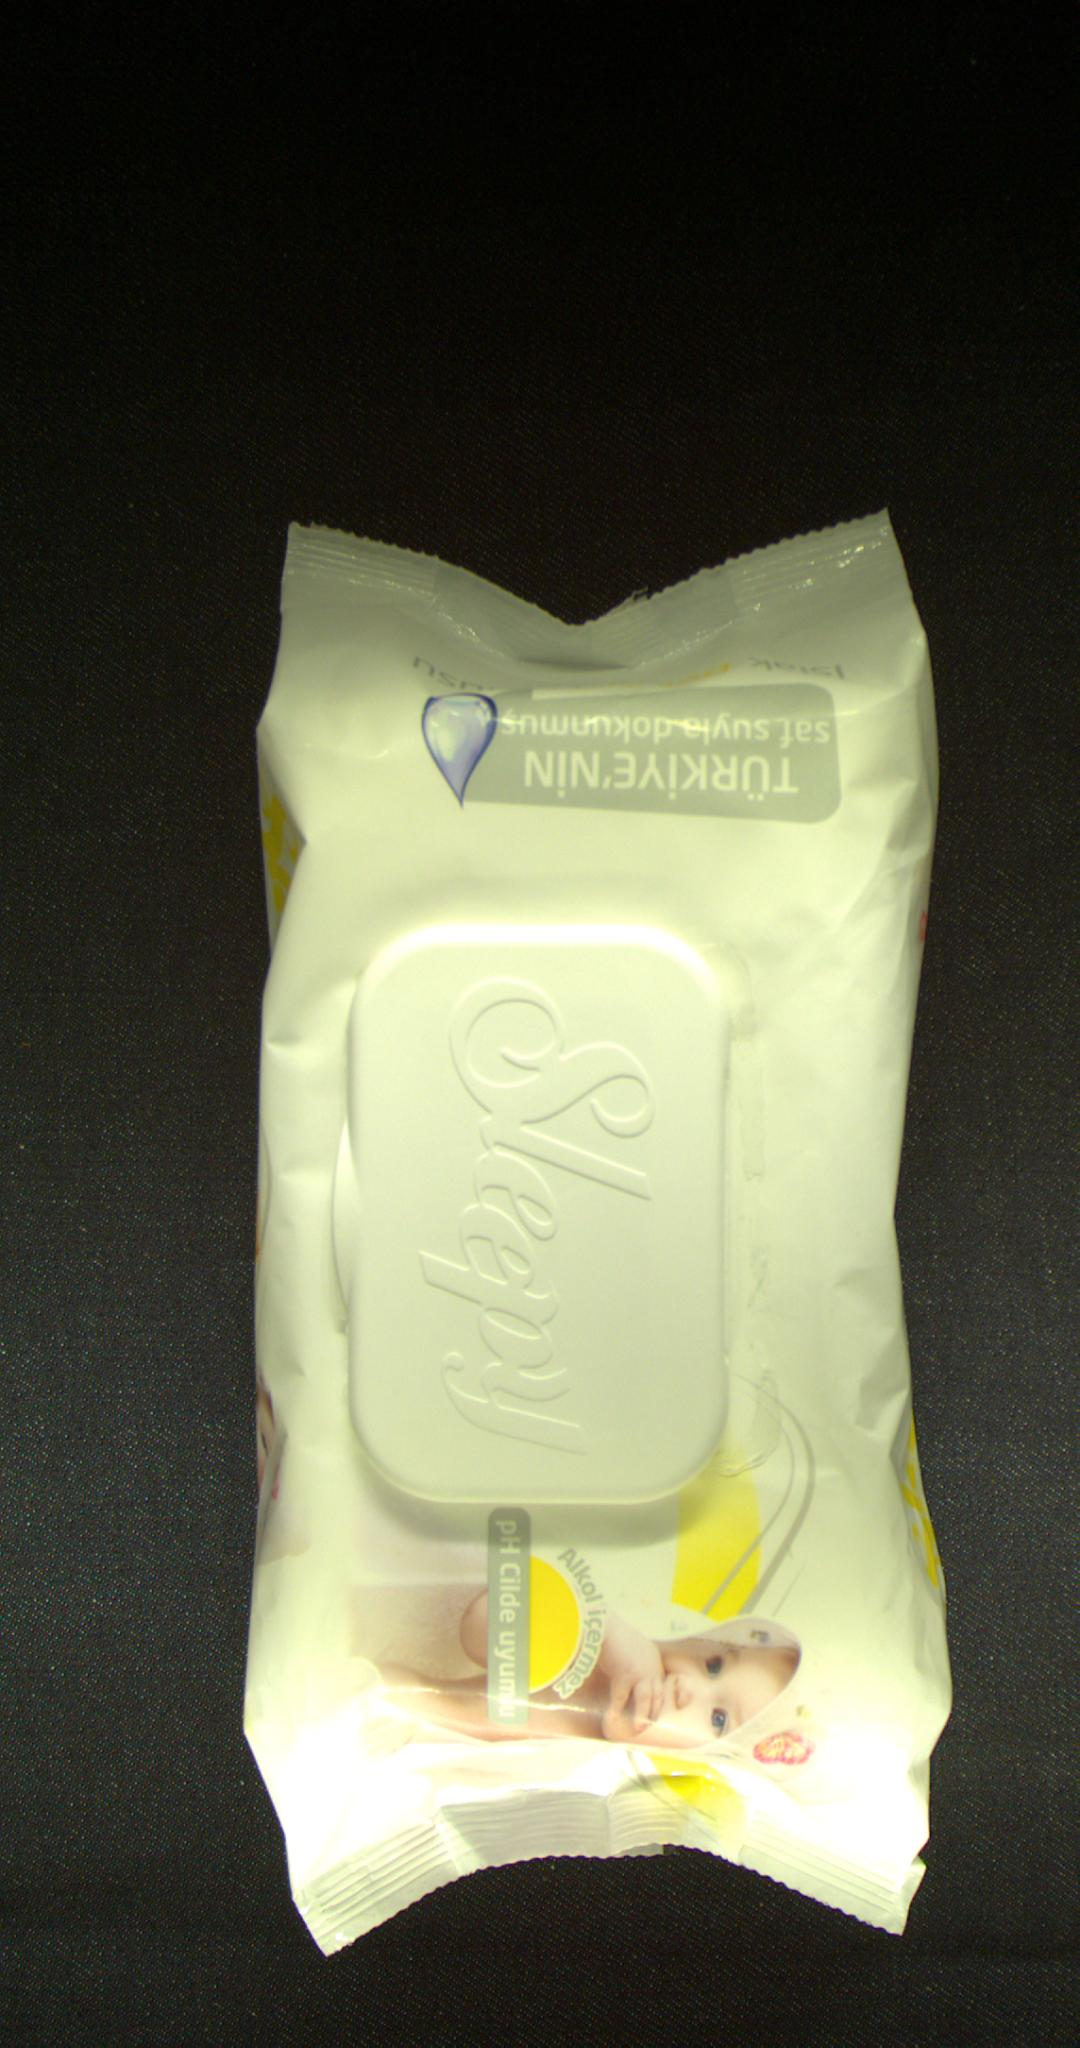kapak: (332, 921, 733, 1512)
